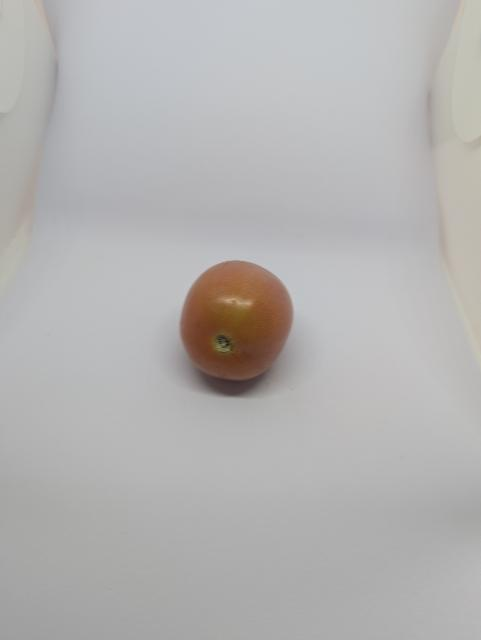turning: (174, 255, 302, 386)
